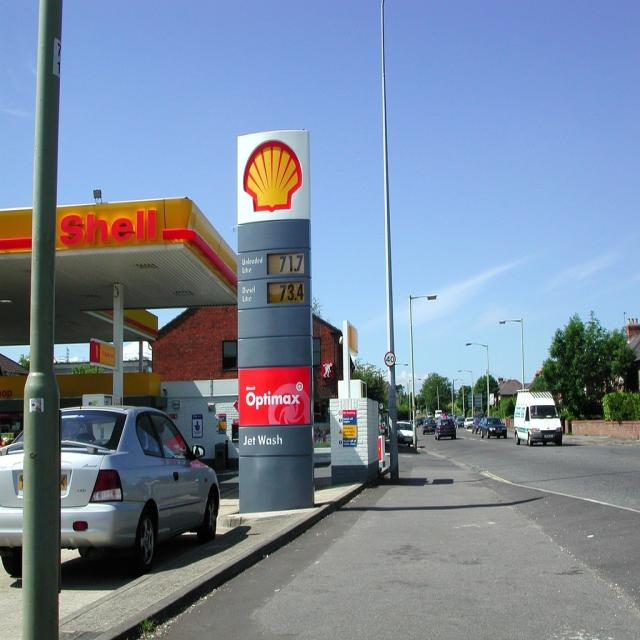shell: (243, 139, 303, 215)
